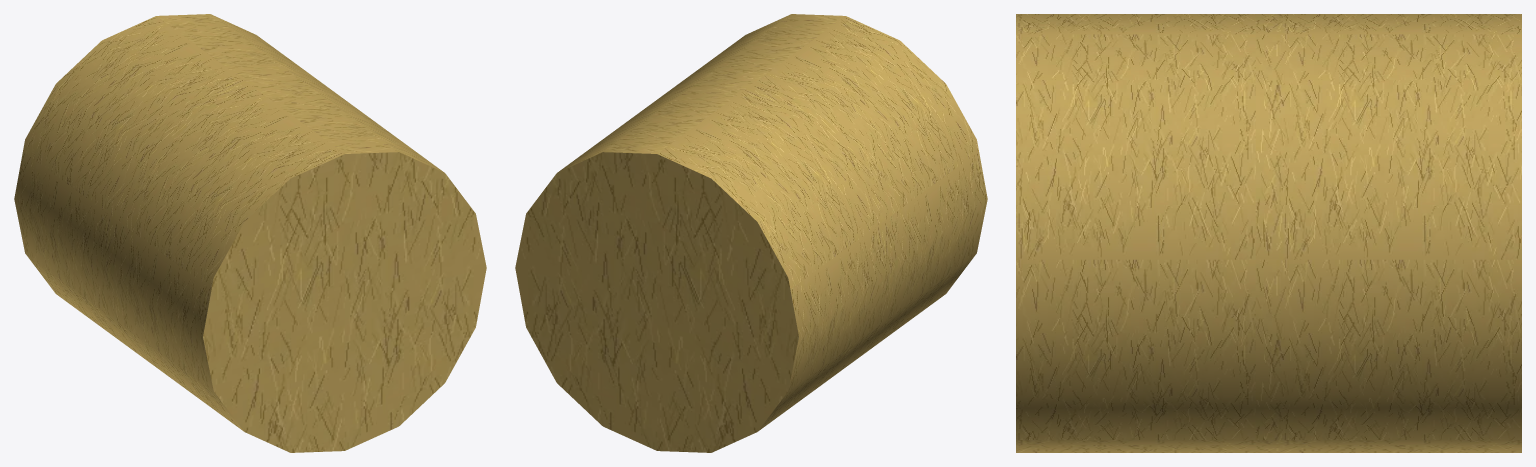
Rendered from hay.glb.
The picture shows the model from 3 angles, left to right: view 1: azimuth 30°, elevation 25°; view 2: azimuth 150°, elevation 25°; view 3: azimuth 270°, elevation 25°; orthographic projection. The views are drawn at different scales.
Parts seen in each view (by area): view 1: prop; view 2: prop; view 3: prop.
Boxes of the visible parts, x1,y1,x2,y2 form: prop: [14, 14, 486, 452]; prop: [515, 14, 987, 452]; prop: [1016, 14, 1521, 452].
Size of the model in its own units: 0.66 by 0.66 by 0.76.
Materials: 1 (1 with a texture image).
